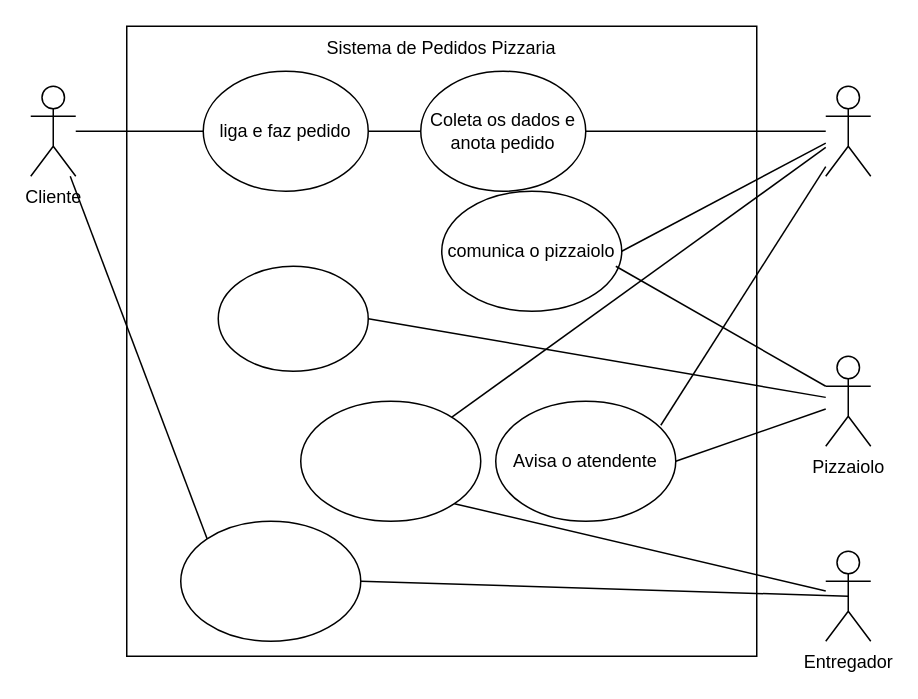
This 918x699 diagram has some shape labels left out. Each missing label, with the centre of its shape:
Aciona o entregador e passa o endereço: (x=390, y=460)
Atendente: (x=847, y=130)
Prepara a pizza: (x=292, y=318)
Realiza entrega: (x=270, y=580)
